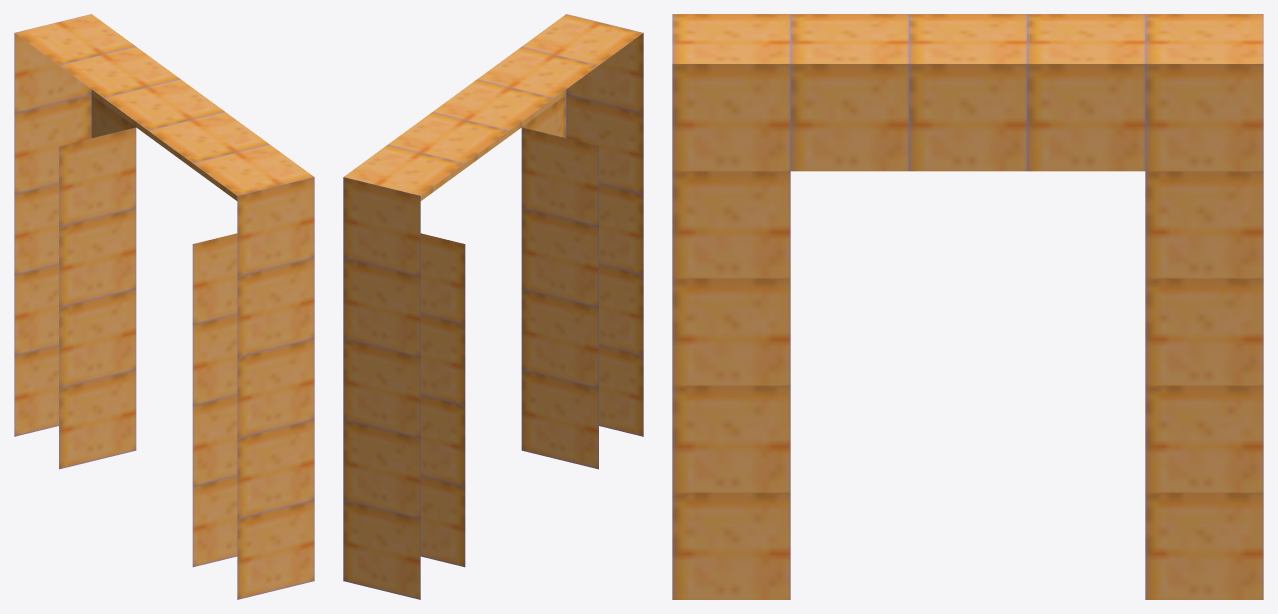
File: geo_rightDoor.fbx
3 views of the same model, side by side, from view 1: azimuth 30°, elevation 25°; view 2: azimuth 150°, elevation 25°; view 3: azimuth 270°, elevation 25° (orthographic). The views are drawn at different scales.
Parts seen in each view (by area): view 1: geo_largeArc18; view 2: geo_largeArc18; view 3: geo_largeArc18.
Boxes of the visible parts, x1,y1,x2,y2 form: geo_largeArc18: [14, 14, 314, 599]; geo_largeArc18: [343, 14, 643, 599]; geo_largeArc18: [672, 14, 1263, 599].
Size of the model in its own units: 2 by 10 by 10.
